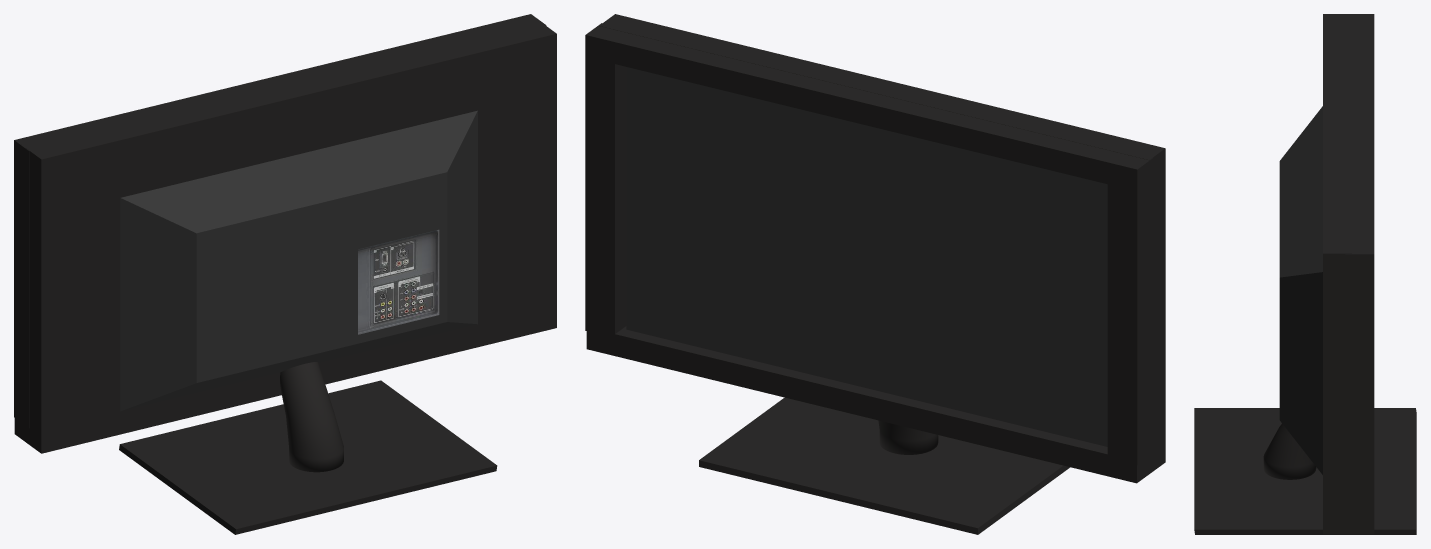
File: television.fbx
3 renders of one model, left to right at view 1: azimuth 30°, elevation 25°; view 2: azimuth 150°, elevation 25°; view 3: azimuth 270°, elevation 25°, orthographic. The views are drawn at different scales.
Visible parts, largest first — view 1: Cube, Cube.005, stand, Plane, Cube.001, Cube.004; view 2: screen, stand, Cube.001, Cube.002, Cube.004, Cube, Cube.003; view 3: stand, Cube.005, Cube, Cube.003, Cube.001, Cube.002.
Part boxes in pixels (x1,y1,x2,y2): Cube: (26, 22, 556, 453); Cube.005: (120, 110, 477, 411); stand: (119, 362, 497, 534); Plane: (358, 229, 439, 334); Cube.001: (15, 14, 540, 148); Cube.004: (14, 140, 29, 428); screen: (626, 67, 1107, 446); stand: (699, 397, 1069, 534); Cube.001: (586, 26, 1148, 184); Cube.002: (586, 326, 1149, 483); Cube.004: (1107, 157, 1153, 465); Cube: (599, 14, 1165, 473); Cube.003: (585, 23, 626, 333); stand: (1194, 408, 1416, 534); Cube.005: (1279, 106, 1322, 474); Cube: (1323, 14, 1351, 534); Cube.003: (1345, 254, 1374, 518); Cube.001: (1352, 14, 1374, 253); Cube.002: (1345, 518, 1374, 534).
Bounding box in the file's own units: 3.11 × 2.05 × 1.21.
4 materials, 1 textured.
